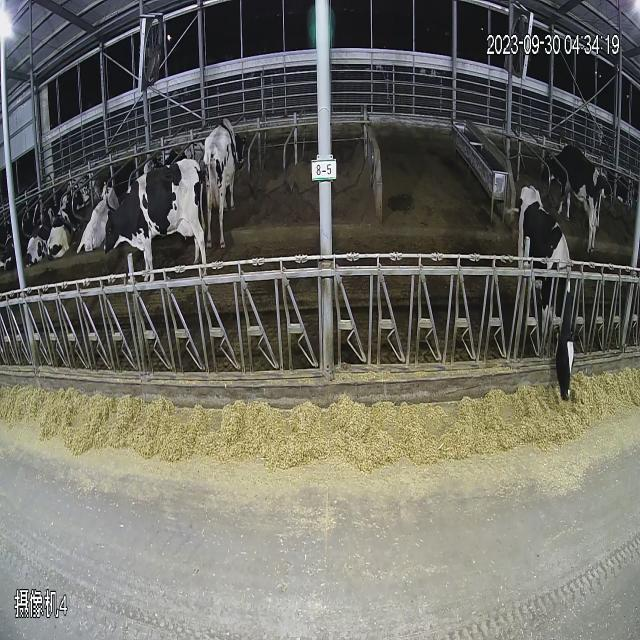feeding: (508, 185, 598, 428)
lying down: (1, 128, 86, 300), (86, 102, 126, 216), (602, 137, 640, 226), (139, 126, 197, 173)
